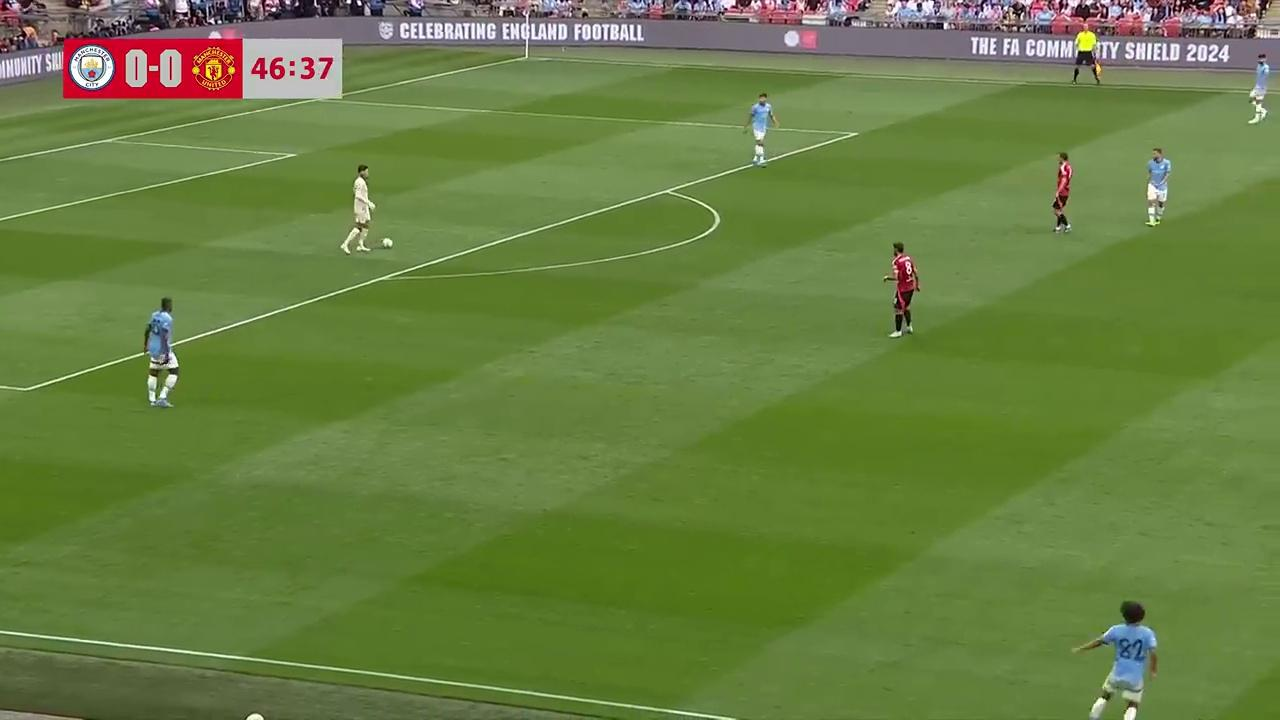ball: (381, 234, 394, 249)
player: (1078, 601, 1156, 720), (143, 297, 181, 409), (882, 242, 921, 337), (341, 164, 376, 253), (745, 90, 774, 167), (1146, 147, 1171, 223), (1051, 152, 1073, 233), (1248, 66, 1269, 124)
referee: (1072, 34, 1103, 86)
